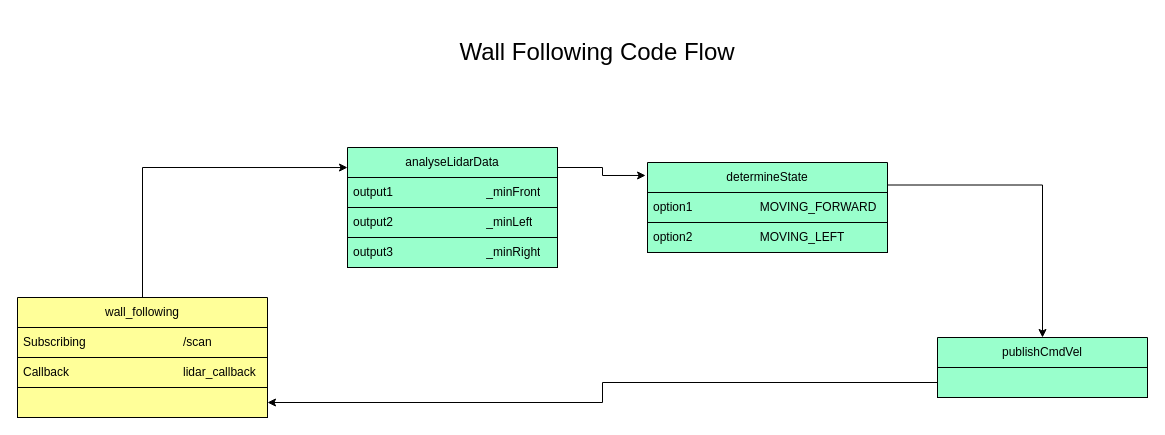
This 1165x435 diagram has some shape labels left out. The shapes that lost their labels are listed below. From the top down, each one's centre as x and y in pixels, then its label:
At point 142,402: "Publishing /cmd_vel".
At point 1042,382: "outputs linear.x, angular.z".
